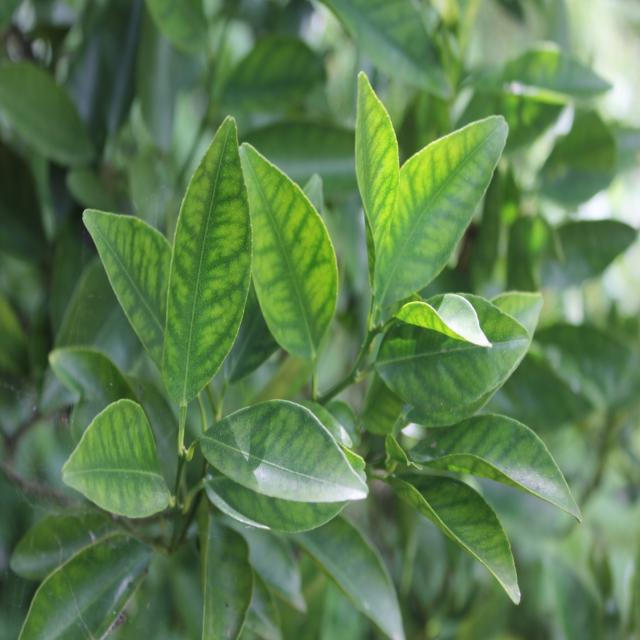greening: (376, 120, 511, 304), (164, 125, 252, 388), (247, 147, 343, 359), (64, 406, 178, 512), (94, 203, 163, 338)
